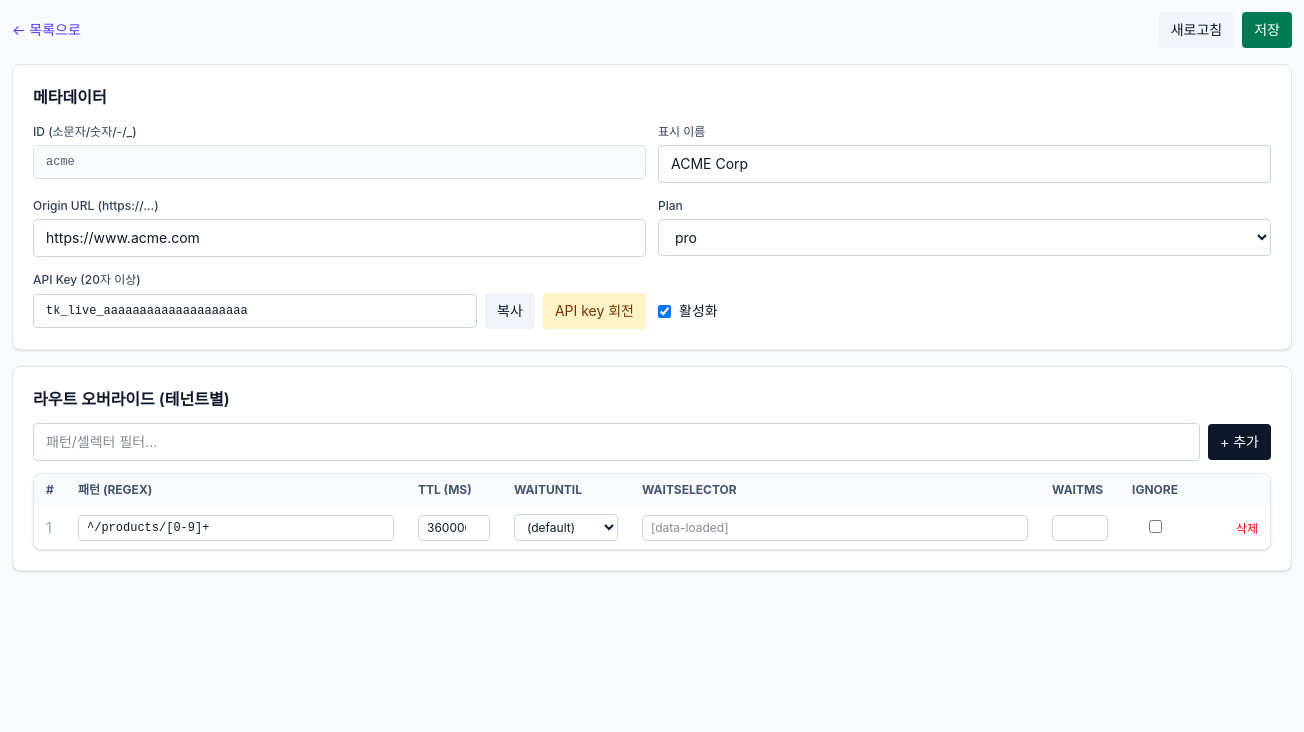
Test: TenantDetail page › rotate button issues a new apiKey after confirm
Expected: the field showing "tk_live_aaaaaaaaaaaaaaaaaaaa" is shown, [33,294,477,328]
Click the button "API key 회전" at [594, 311], box [543,293,646,329]
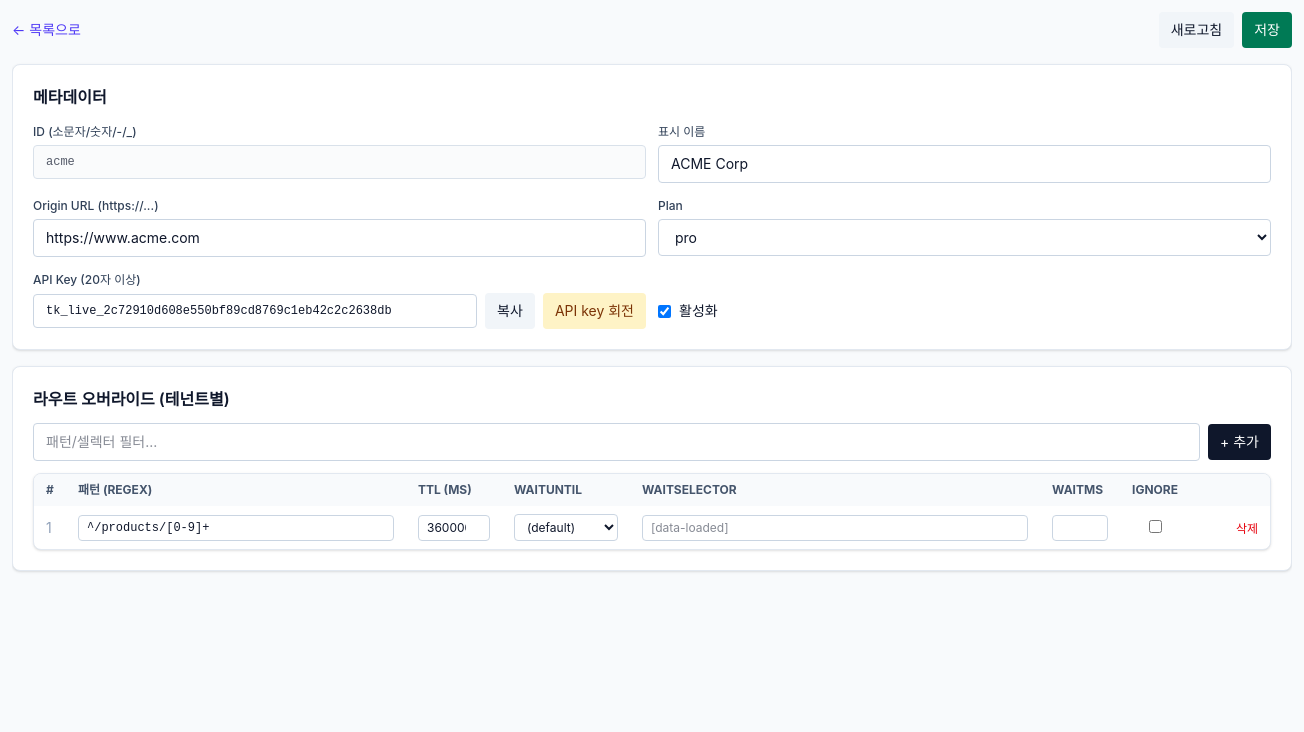
Expected: the field showing "tk_live_aaaaaaaaaaaaaaaaaaaa" is not shown
Now the field labelled "API Key (20자 이상) 복사 API key 회전" does not hold "tk_live_aaaaaaaaaaaaaaaaaaaa", box [33,294,477,328]
